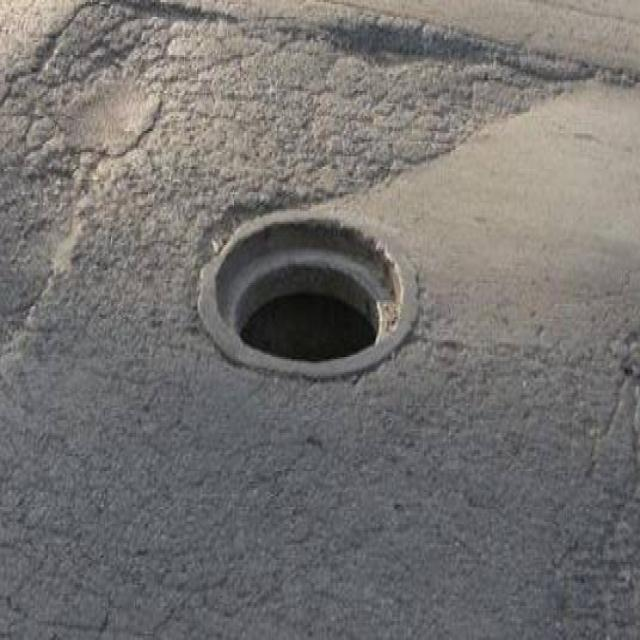manhole: (195, 210, 424, 385)
